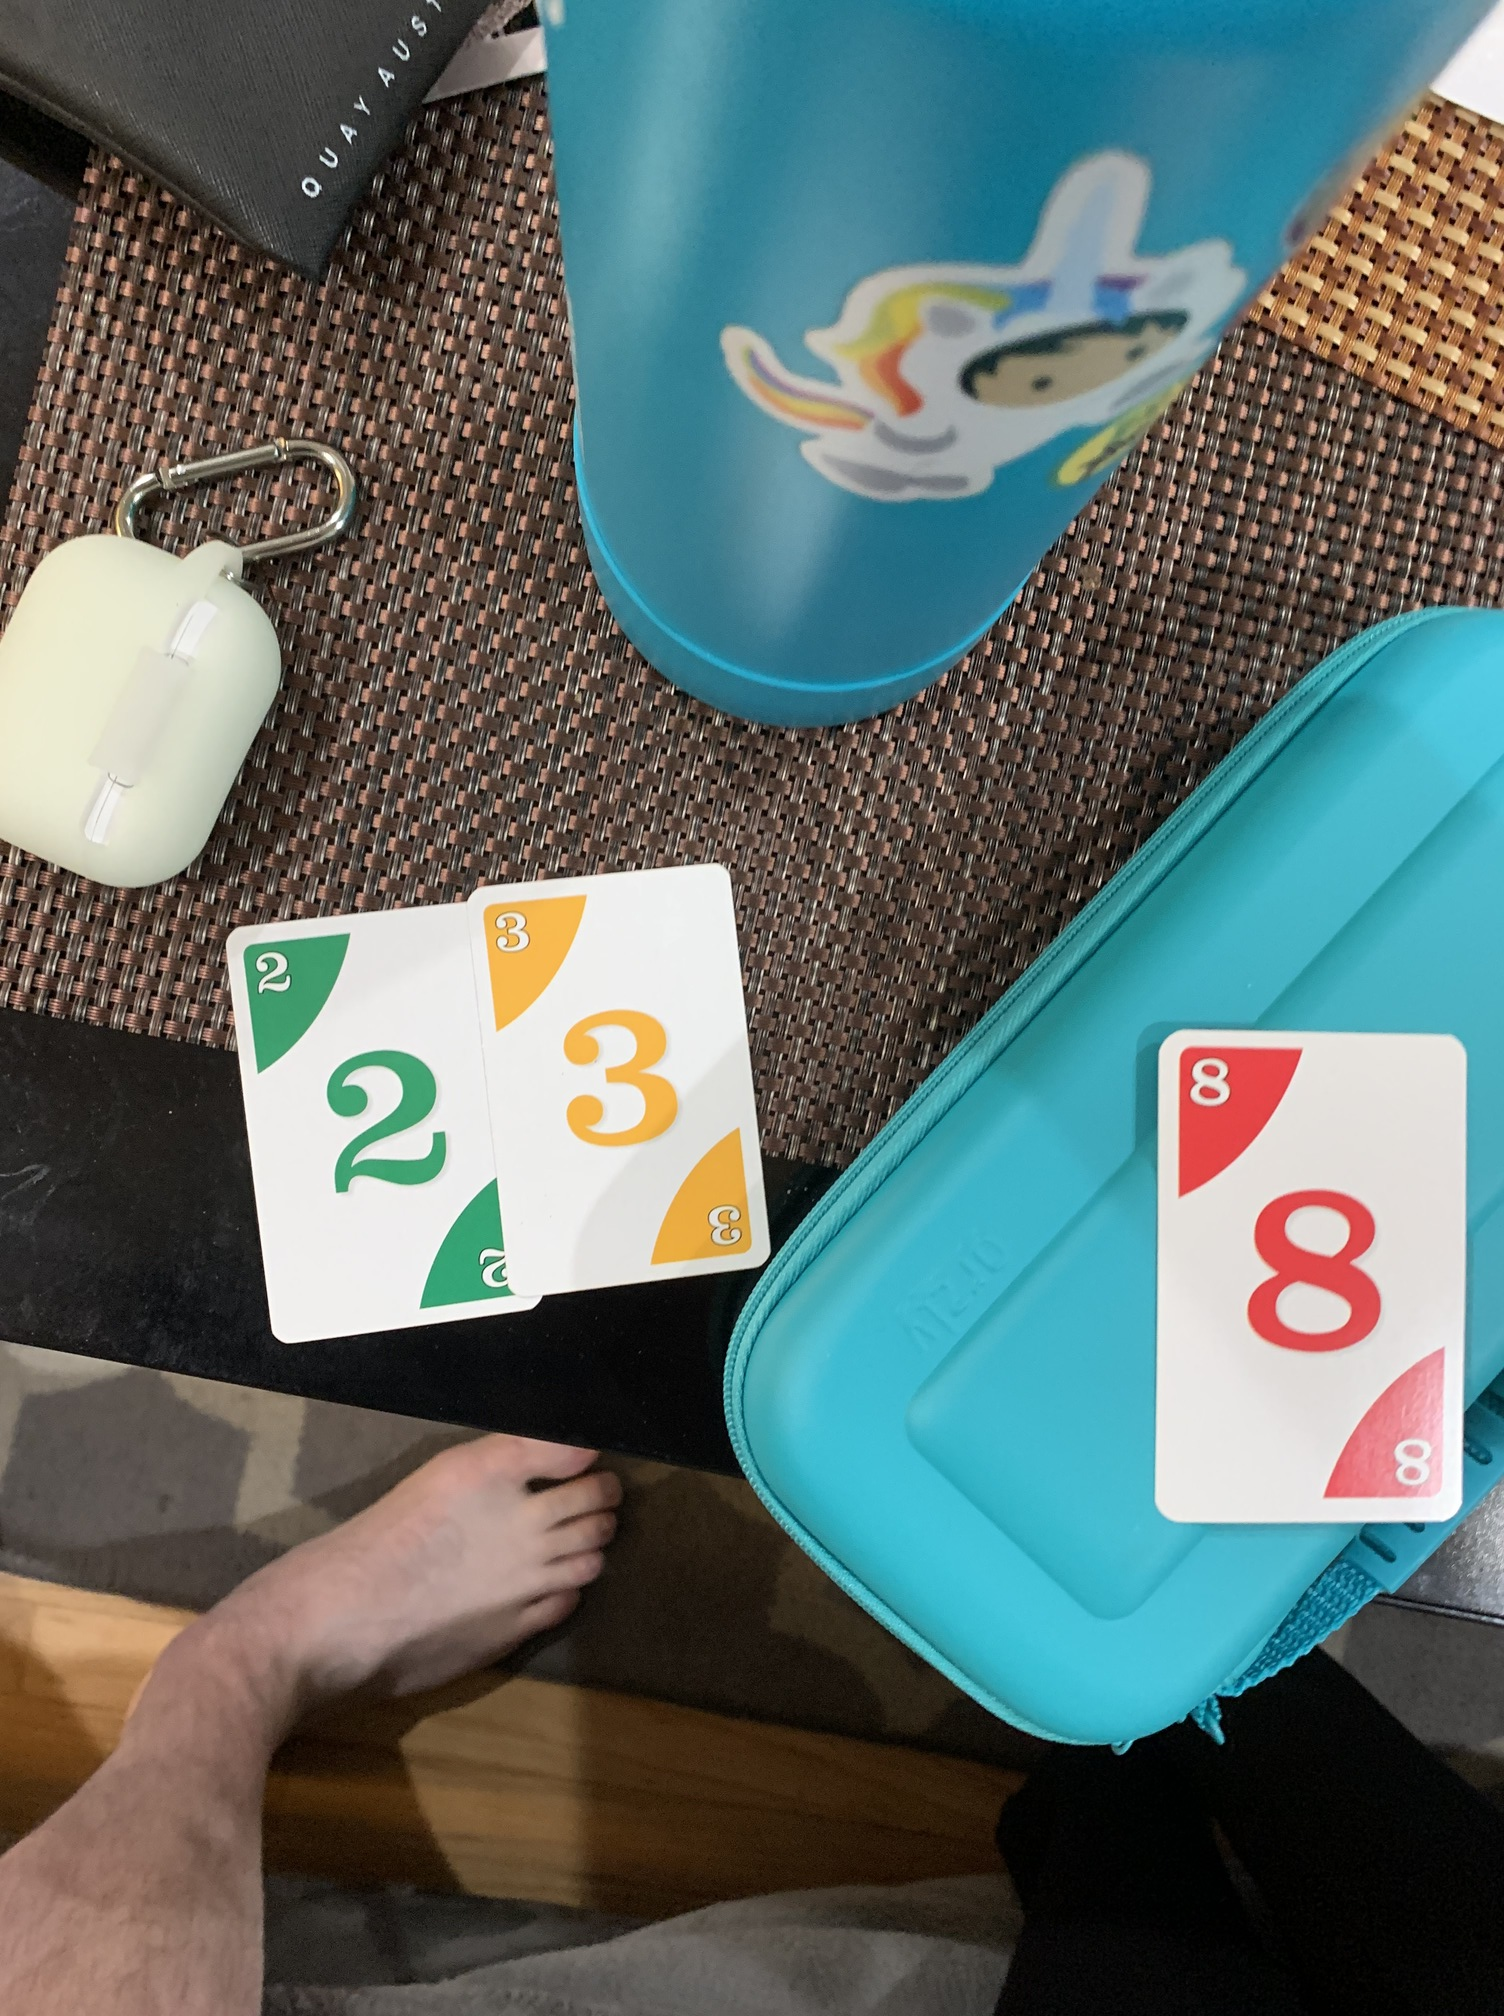eight: (1147, 1016, 1471, 1534)
three: (463, 863, 777, 1299)
two: (216, 888, 558, 1349)
